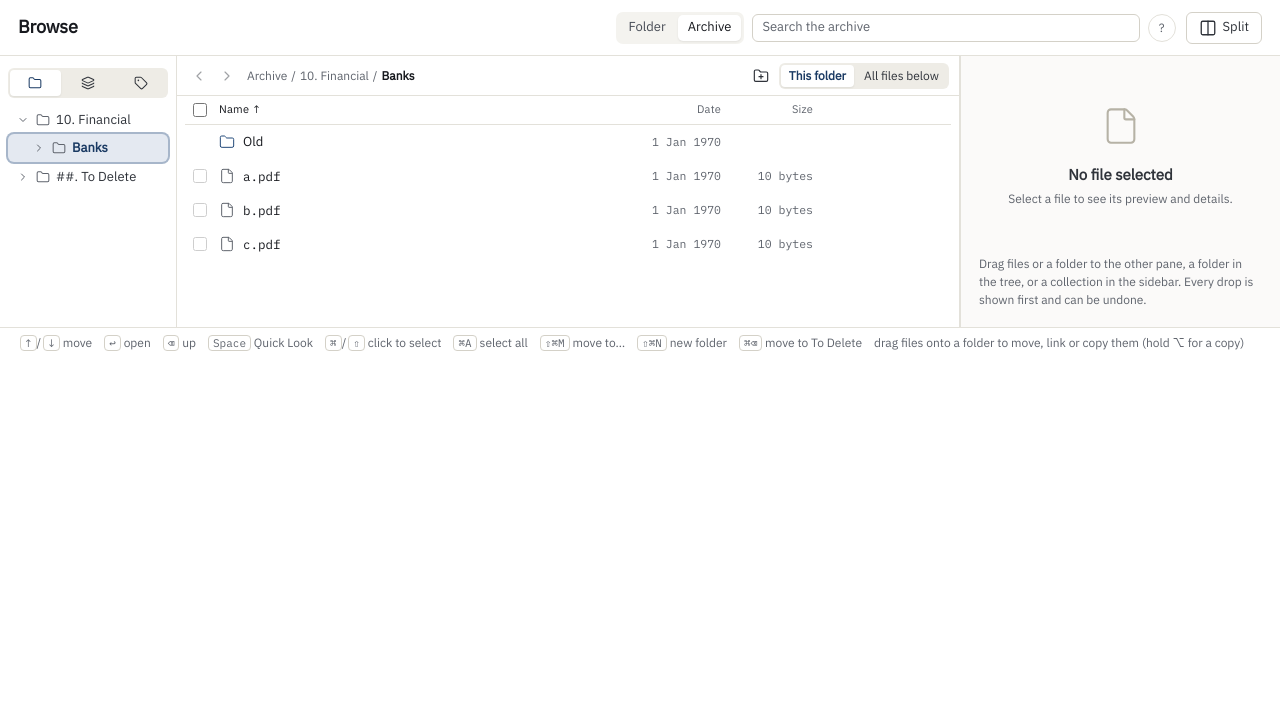
Scenario: A folder's right-click menu › in the folder tree: the same menu, also from the keyboard; Move to… opens its sheet
Type keys "{Shift>}{F10}{/Shift}"
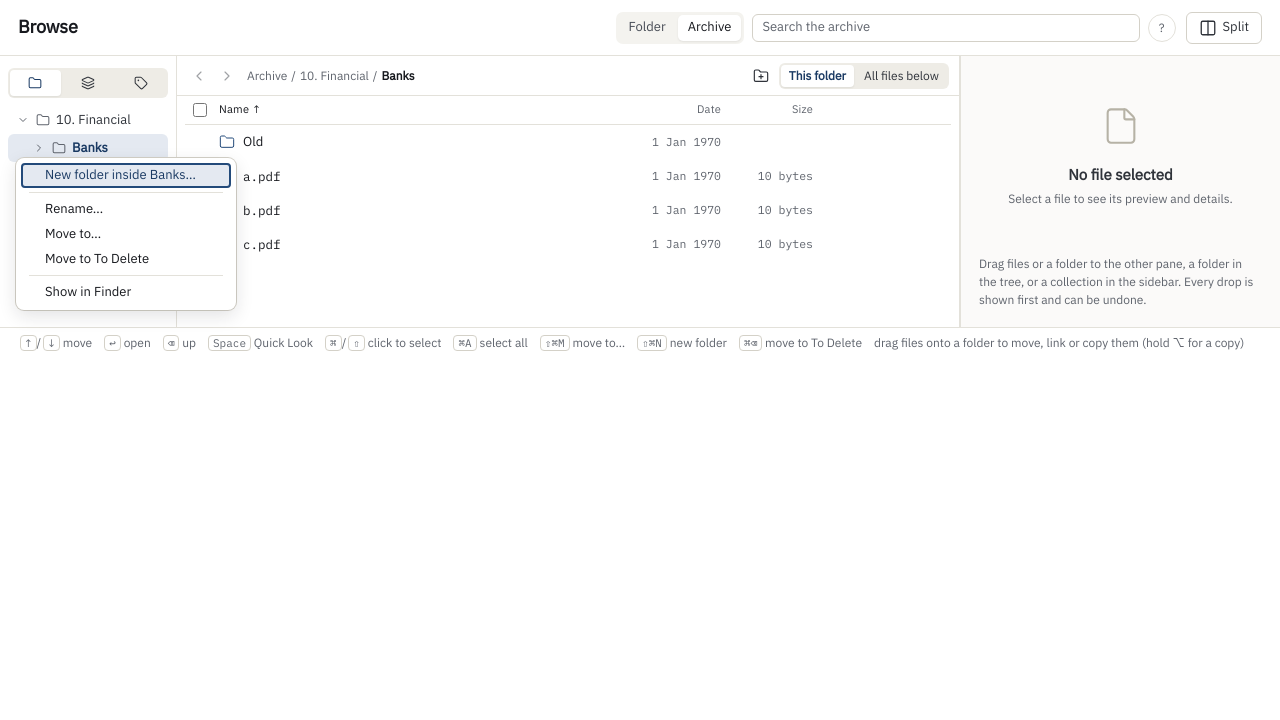
Click the menu item "Move to…".
click(126, 234)  # box [21,222,231,246]
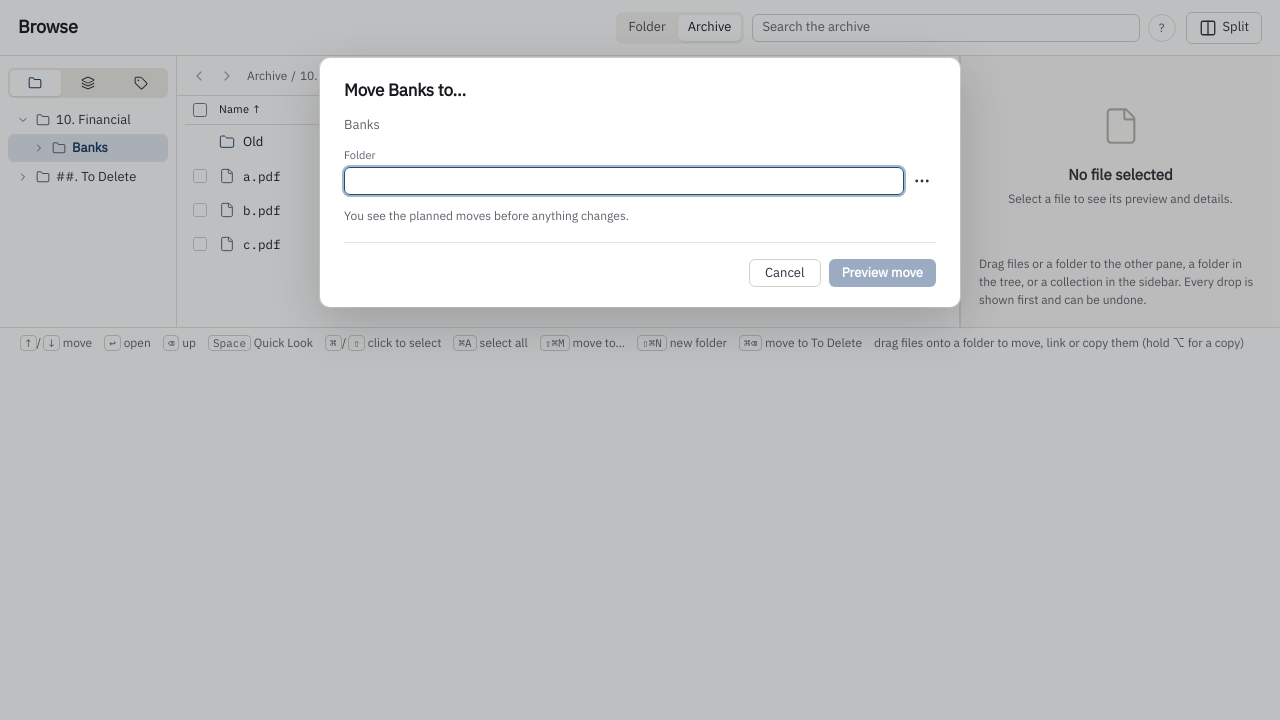
expect the dialog "Move Banks to…" is shown: met, box [320,58,960,307]
